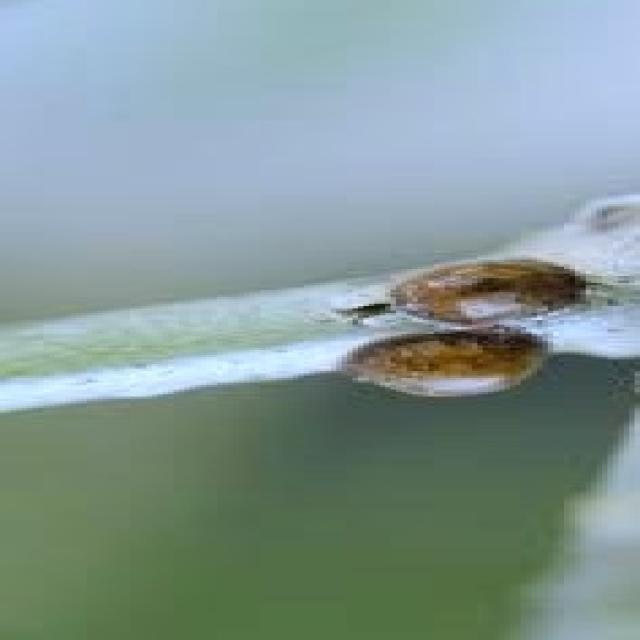BlackScale: (347, 327, 548, 394), (390, 262, 580, 322)
